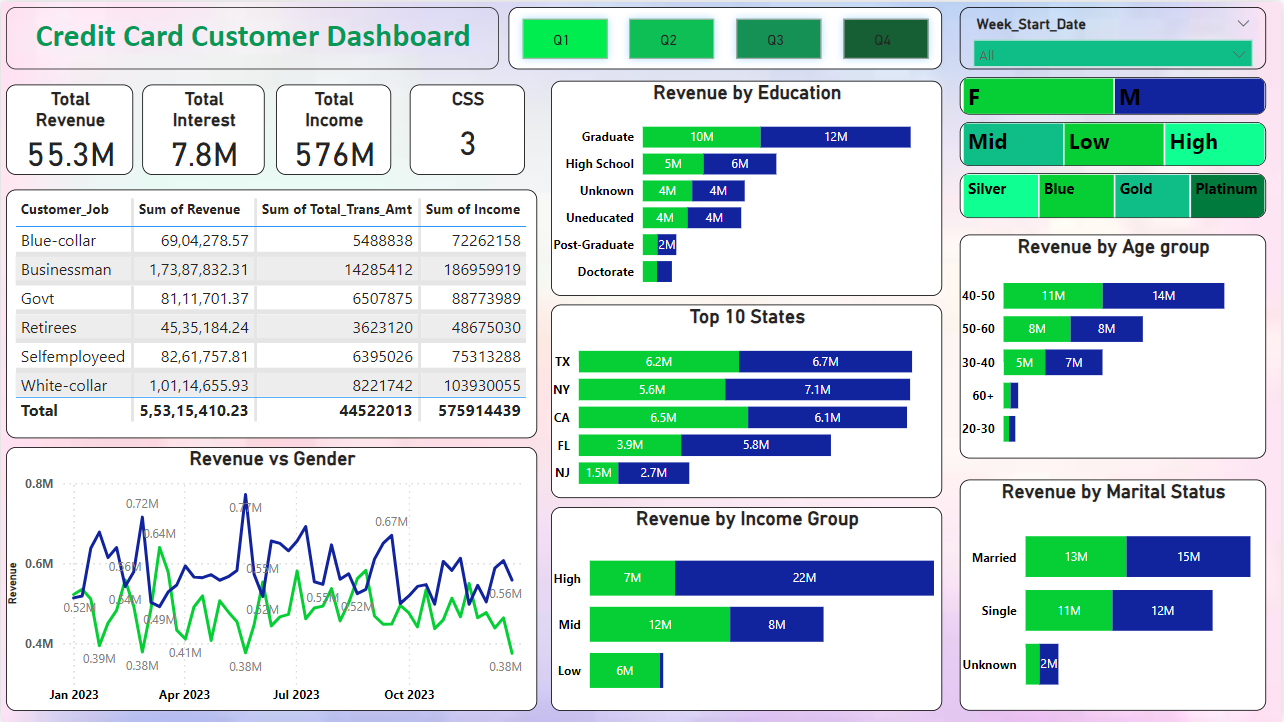

The page's visual inventory and layout, read from the dashboard file:
{"tool":"powerbi","page":{"name":"Customer_Detail","canvas":[1280,720],"ordinal":1},"visuals":[{"type":"textbox","box":[5,5,492.5,62.5],"z":0},{"type":"card","title":"Total Revenue","fields":{"Values":["Sum(credit_card.Revenue)"]},"box":[5,82.5,127.5,90],"z":1},{"type":"card","title":"Total Interest","fields":{"Values":["Sum(credit_card.Interest_Earned)"]},"box":[141.2,82.5,122.5,90],"z":2},{"type":"card","title":"Total Income","fields":{"Values":["Sum(customer.Income)"]},"box":[275,82.5,115,90],"z":3},{"type":"card","title":"CSS","fields":{"Values":["Avg(customer.Cust_Satisfaction_Score)"]},"box":[408.8,82.5,115,90],"z":4},{"type":"slicer","fields":{"Values":["credit_card.Week_Start_Date"]},"box":[958.8,5,306.2,62.5],"z":5},{"type":"treemap","fields":{"Group":["customer.Gender"],"Values":["Avg(credit_card.Client_Num)"]},"box":[958.8,75,306.2,37.5],"z":6},{"type":"treemap","fields":{"Group":["customer.Income_Group"],"Values":["Avg(credit_card.Client_Num)"]},"box":[958.8,120,306.2,43.8],"z":7},{"type":"treemap","fields":{"Group":["credit_card.Card_Category"],"Values":["Avg(credit_card.Client_Num)"]},"box":[958.8,171.2,306.2,45],"z":8},{"type":"advancedSlicerVisual","fields":{"Values":["credit_card.Qtr"]},"box":[507.5,5,433.8,62.5],"z":9},{"type":"tableEx","fields":{"Values":["customer.Customer_Job","Sum(credit_card.Revenue)","Sum(credit_card.Total_Trans_Amt)","Sum(customer.Income)"]},"box":[5,187.5,531.2,248.8],"z":10},{"type":"lineChart","title":"Revenue vs Gender","fields":{"Y":["Sum(credit_card.Revenue)"],"Category":["credit_card.Week_Start_Date.Variation.Date Hierarchy.Year","credit_card.Week_Start_Date.Variation.Date Hierarchy.Month","credit_card.Week_Start_Date.Variation.Date Hierarchy.Day"],"Series":["customer.Gender"]},"box":[5,445,531.2,263.8],"z":11},{"type":"barChart","title":"Revenue by Age group","fields":{"Category":["customer.Age_group"],"Series":["customer.Gender"],"Y":["Sum(credit_card.Revenue)"]},"box":[958.8,232.5,306.2,223.8],"z":12},{"type":"barChart","title":"Revenue by Education","fields":{"Series":["customer.Gender"],"Category":["customer.Education_Level"],"Y":["Sum(credit_card.Revenue)"]},"box":[550,78.8,391.2,215],"z":13},{"type":"barChart","title":"Top 10 States","fields":{"Y":["Sum(credit_card.Revenue)"],"Category":["customer.state_cd"],"Series":["customer.Gender"]},"box":[550,302.5,391.2,193.8],"z":14},{"type":"barChart","title":"Revenue by Income Group","fields":{"Category":["customer.Income_Group"],"Y":["Sum(credit_card.Revenue)"],"Series":["customer.Gender"]},"box":[550,505,391.2,203.8],"z":15},{"type":"barChart","title":"Revenue by Marital Status","fields":{"Y":["Sum(credit_card.Revenue)"],"Category":["customer.Marital_Status"],"Series":["customer.Gender"]},"box":[958.8,477.5,306.2,231.2],"z":16}]}

Visuals, with their boxes in screenshot pixels (x1, y1, x2, y2), scaled from the page's 1280x720 canvas onto the 1284x722 screenshot:
textbox: <bbox>5, 5, 499, 68</bbox>
"Total Revenue" card: <bbox>5, 83, 133, 173</bbox>
"Total Interest" card: <bbox>142, 83, 265, 173</bbox>
"Total Income" card: <bbox>276, 83, 391, 173</bbox>
"CSS" card: <bbox>410, 83, 525, 173</bbox>
slicer - credit_card.Week_Start_Date: <bbox>962, 5, 1269, 68</bbox>
treemap - customer.Gender x Avg(credit_card.Client_Num): <bbox>962, 75, 1269, 113</bbox>
treemap - customer.Income_Group x Avg(credit_card.Client_Num): <bbox>962, 120, 1269, 164</bbox>
treemap - credit_card.Card_Category x Avg(credit_card.Client_Num): <bbox>962, 172, 1269, 217</bbox>
advancedSlicerVisual - credit_card.Qtr: <bbox>509, 5, 944, 68</bbox>
tableEx - customer.Customer_Job x Sum(credit_card.Revenue): <bbox>5, 188, 538, 438</bbox>
"Revenue vs Gender" lineChart: <bbox>5, 446, 538, 711</bbox>
"Revenue by Age group" barChart: <bbox>962, 233, 1269, 458</bbox>
"Revenue by Education" barChart: <bbox>552, 79, 944, 295</bbox>
"Top 10 States" barChart: <bbox>552, 303, 944, 498</bbox>
"Revenue by Income Group" barChart: <bbox>552, 506, 944, 711</bbox>
"Revenue by Marital Status" barChart: <bbox>962, 479, 1269, 711</bbox>
